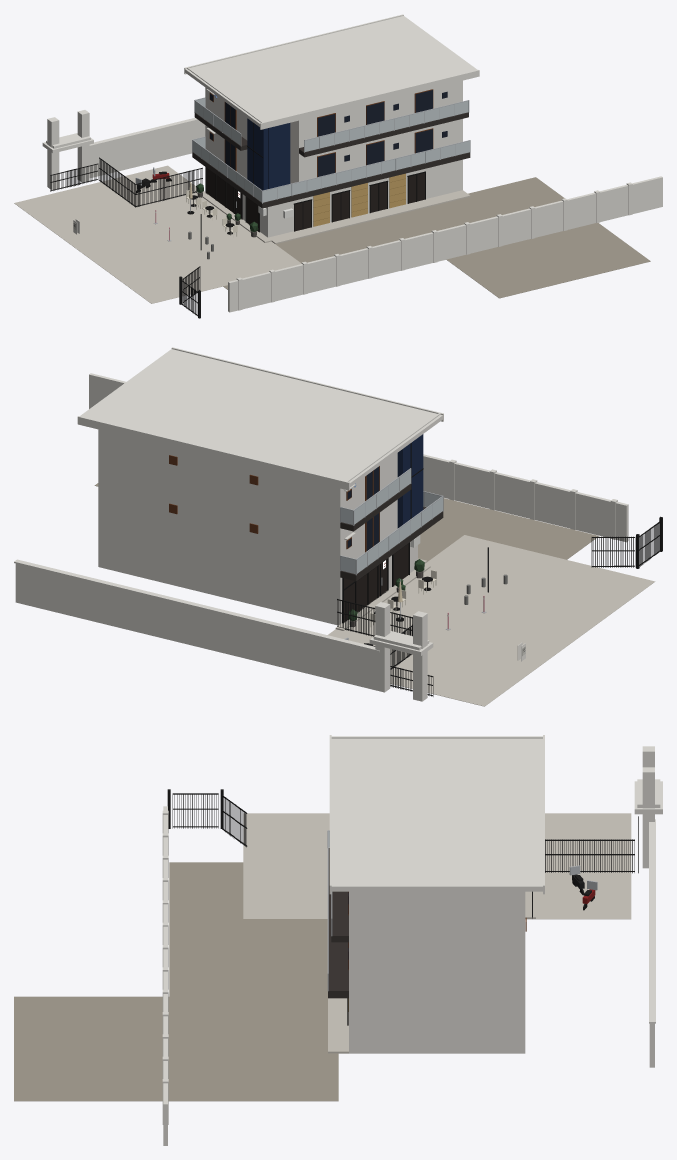
The model's file is kyo_coffee.glb.
3 views of the same model, one above another, from view 1: azimuth 30°, elevation 25°; view 2: azimuth 150°, elevation 25°; view 3: azimuth 270°, elevation 25° (orthographic). The views are drawn at different scales.
Parts seen in each view (by area): view 1: kyo_coffee_ground_mesh, kyo_coffee_roof_mesh, kyo_coffee_building_mesh, kyo_coffee_lot_mesh, kyo_coffee_rails_mesh, kyo_coffee_nextdoor_mesh, kyo_coffee_storefront_mesh, kyo_coffee_fences_mesh, kyo_coffee_openings_mesh, kyo_coffee_props_mesh; view 2: kyo_coffee_building_mesh, kyo_coffee_ground_mesh, kyo_coffee_roof_mesh, kyo_coffee_nextdoor_mesh, kyo_coffee_lot_mesh, kyo_coffee_fences_mesh, kyo_coffee_rails_mesh, kyo_coffee_storefront_mesh, kyo_coffee_props_mesh, kyo_coffee_openings_mesh; view 3: kyo_coffee_ground_mesh, kyo_coffee_roof_mesh, kyo_coffee_building_mesh, kyo_coffee_fences_mesh, kyo_coffee_nextdoor_mesh, kyo_coffee_lot_mesh.
Boxes of the visible parts, box(x1,y1,x2,y2) form: kyo_coffee_ground_mesh: box(14, 165, 650, 303); kyo_coffee_roof_mesh: box(184, 14, 479, 129); kyo_coffee_building_mesh: box(192, 80, 470, 244); kyo_coffee_lot_mesh: box(179, 176, 662, 318); kyo_coffee_rails_mesh: box(192, 97, 470, 203); kyo_coffee_nextdoor_mesh: box(42, 110, 205, 189); kyo_coffee_storefront_mesh: box(205, 167, 425, 232); kyo_coffee_fences_mesh: box(50, 157, 202, 316); kyo_coffee_openings_mesh: box(206, 89, 447, 177); kyo_coffee_props_mesh: box(73, 167, 293, 259); kyo_coffee_building_mesh: box(98, 429, 443, 630); kyo_coffee_ground_mesh: box(94, 483, 655, 706); kyo_coffee_roof_mesh: box(77, 347, 443, 490); kyo_coffee_nextdoor_mesh: box(14, 559, 433, 701); kyo_coffee_lot_mesh: box(89, 373, 662, 568); kyo_coffee_fences_mesh: box(337, 521, 659, 696); kyo_coffee_rails_mesh: box(340, 468, 443, 575); kyo_coffee_storefront_mesh: box(342, 542, 409, 623); kyo_coffee_props_mesh: box(344, 535, 525, 661); kyo_coffee_openings_mesh: box(169, 455, 379, 552); kyo_coffee_ground_mesh: box(14, 813, 631, 1101); kyo_coffee_roof_mesh: box(329, 735, 544, 894); kyo_coffee_building_mesh: box(328, 848, 535, 1053); kyo_coffee_fences_mesh: box(172, 793, 638, 918); kyo_coffee_nextdoor_mesh: box(634, 746, 662, 1067); kyo_coffee_lot_mesh: box(162, 789, 223, 1145).
Size of what is drawn, in the model's own units: 44.6 by 11.14 by 36.8.
